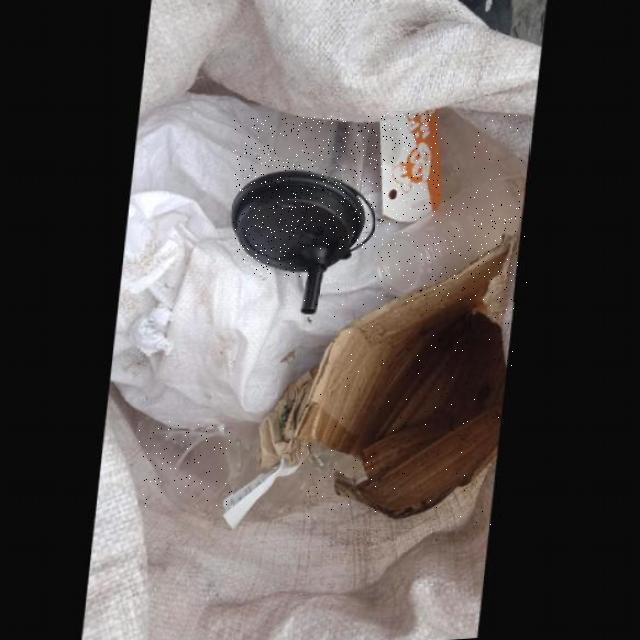paper: (301, 250, 515, 525), (381, 113, 445, 231)
plastic: (233, 117, 378, 277), (376, 188, 527, 302), (139, 421, 233, 507), (439, 113, 530, 190)
